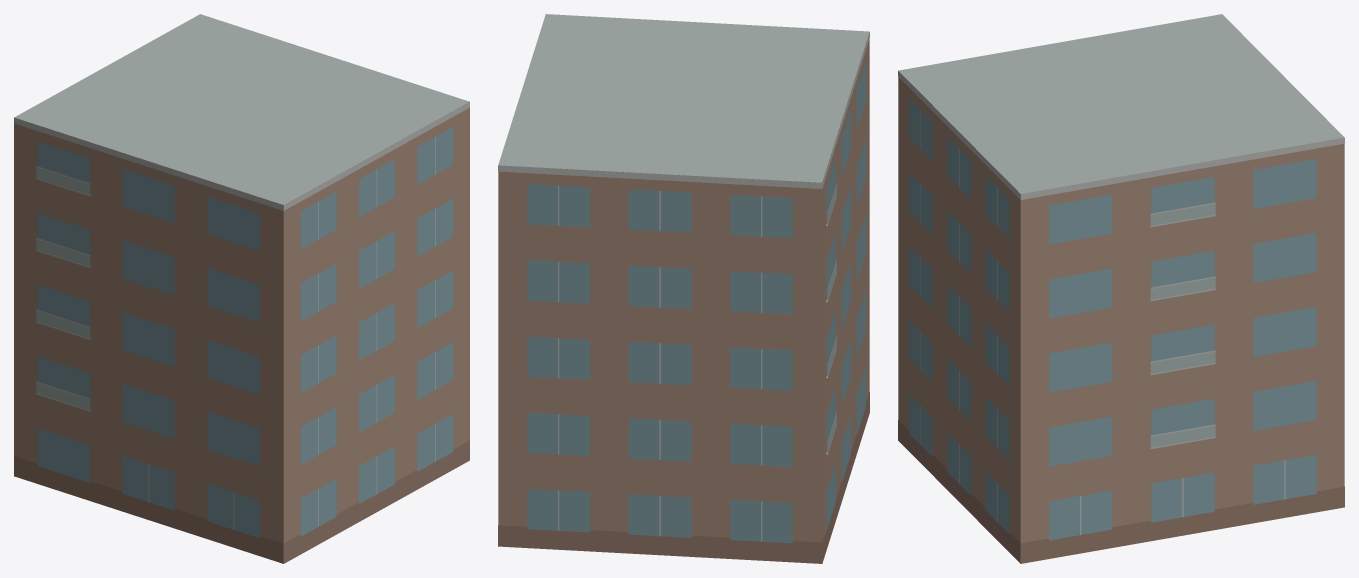
File: survey-upis-32582133.glb
3 views of the same model, side by side, from view 1: azimuth 30°, elevation 25°; view 2: azimuth 150°, elevation 25°; view 3: azimuth 270°, elevation 25° (orthographic). The views are drawn at different scales.
Visible parts, largest first — view 1: survey-upis-32582133.tmp; view 2: survey-upis-32582133.tmp; view 3: survey-upis-32582133.tmp.
Boxes of the visible parts, <box> form: survey-upis-32582133.tmp: <box>14,14,469,563</box>; survey-upis-32582133.tmp: <box>498,14,869,563</box>; survey-upis-32582133.tmp: <box>898,14,1344,563</box>.
Size of the model in its own units: 15.57 by 14.9 by 16.32.
